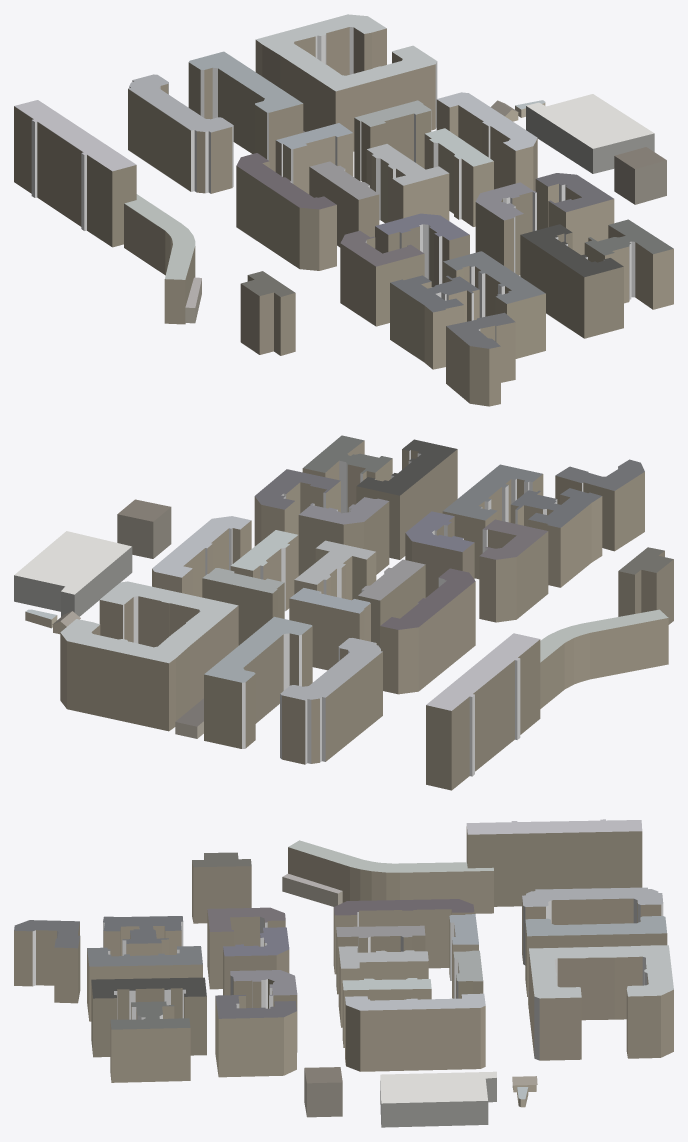
3 views of the same model, one above another, from view 1: azimuth 30°, elevation 25°; view 2: azimuth 150°, elevation 25°; view 3: azimuth 270°, elevation 25° (orthographic). The views are drawn at different scales.
Parts seen in each view (by area): view 1: tuile; view 2: tuile; view 3: tuile.
Part boxes in pixels (bbox=[...]): tuile: bbox=[14, 14, 673, 406]; tuile: bbox=[14, 435, 673, 790]; tuile: bbox=[14, 819, 673, 1127].
Bounding box in the file's own units: 241 × 41.72 × 271.
